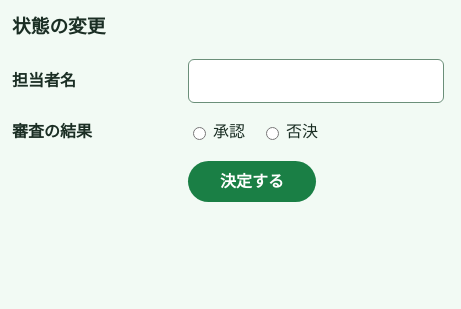
Scenario: 何も入力せずに「決定する」を押すと、審査の結果と担当者名の誤りを一度に、それぞれの欄の下に出す
Click the button "決定する": (252, 181) [188,161,316,202]
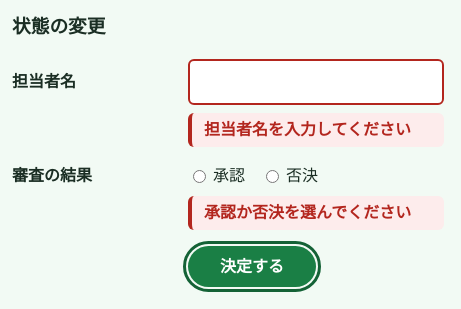
Expected: the messages read "担当者名を入力してください", "承認か否決を選んでください", in this order, [188,113,444,147]; [188,196,444,230]
